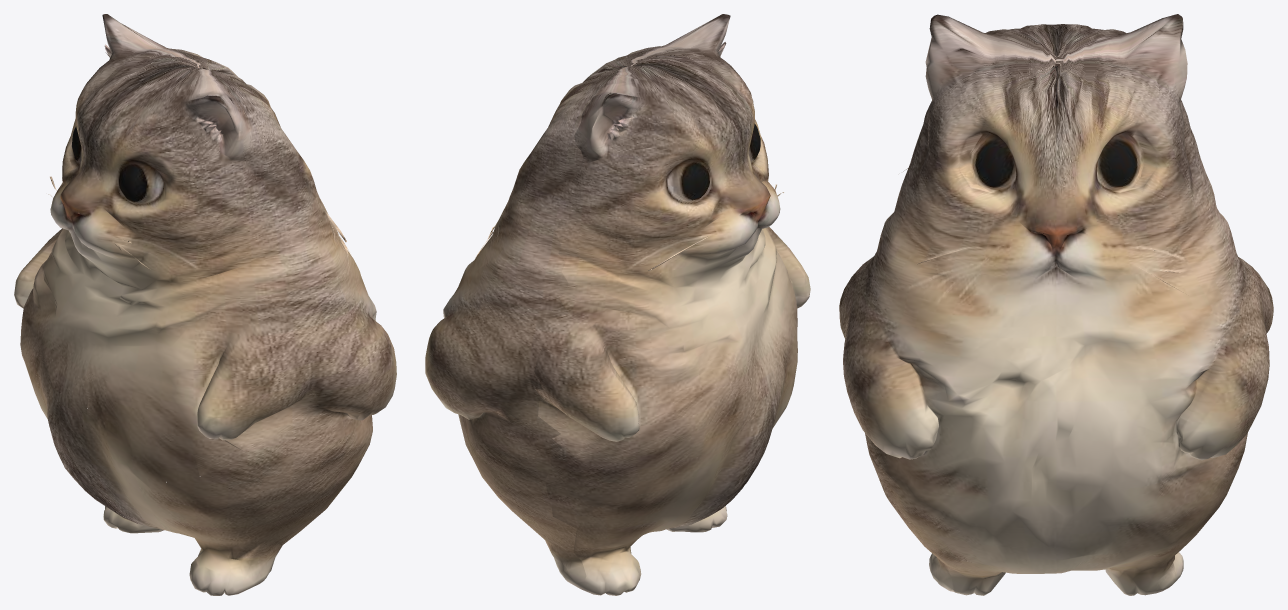
Rendered from catoiia.glb.
The picture shows the model from 3 angles, left to right: view 1: azimuth 30°, elevation 25°; view 2: azimuth 150°, elevation 25°; view 3: azimuth 270°, elevation 25°; orthographic projection. The views are drawn at different scales.
Visible parts, largest first — view 1: minion-d; view 2: minion-d; view 3: minion-d.
Part boxes in pixels (box(x1,y1,x2,y2)): minion-d: box(14, 14, 396, 595); minion-d: box(425, 14, 810, 595); minion-d: box(839, 14, 1273, 595).
Bounding box in the file's own units: 0.5919 × 0.9799 × 0.7015.
Materials: 1 (1 with a texture image).
